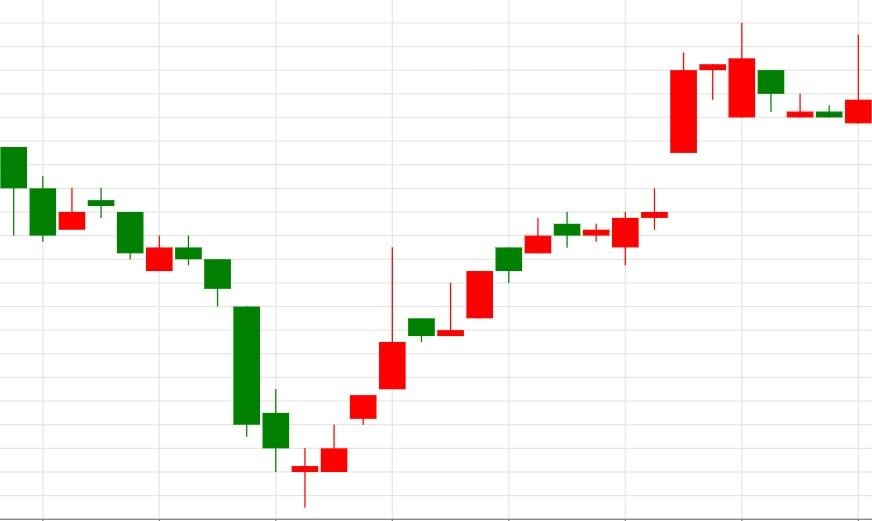three_white_soldiers_rise: (88, 187, 407, 508)
